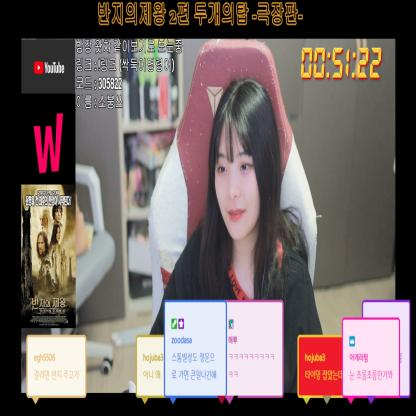streamer: (148, 80, 323, 394)
